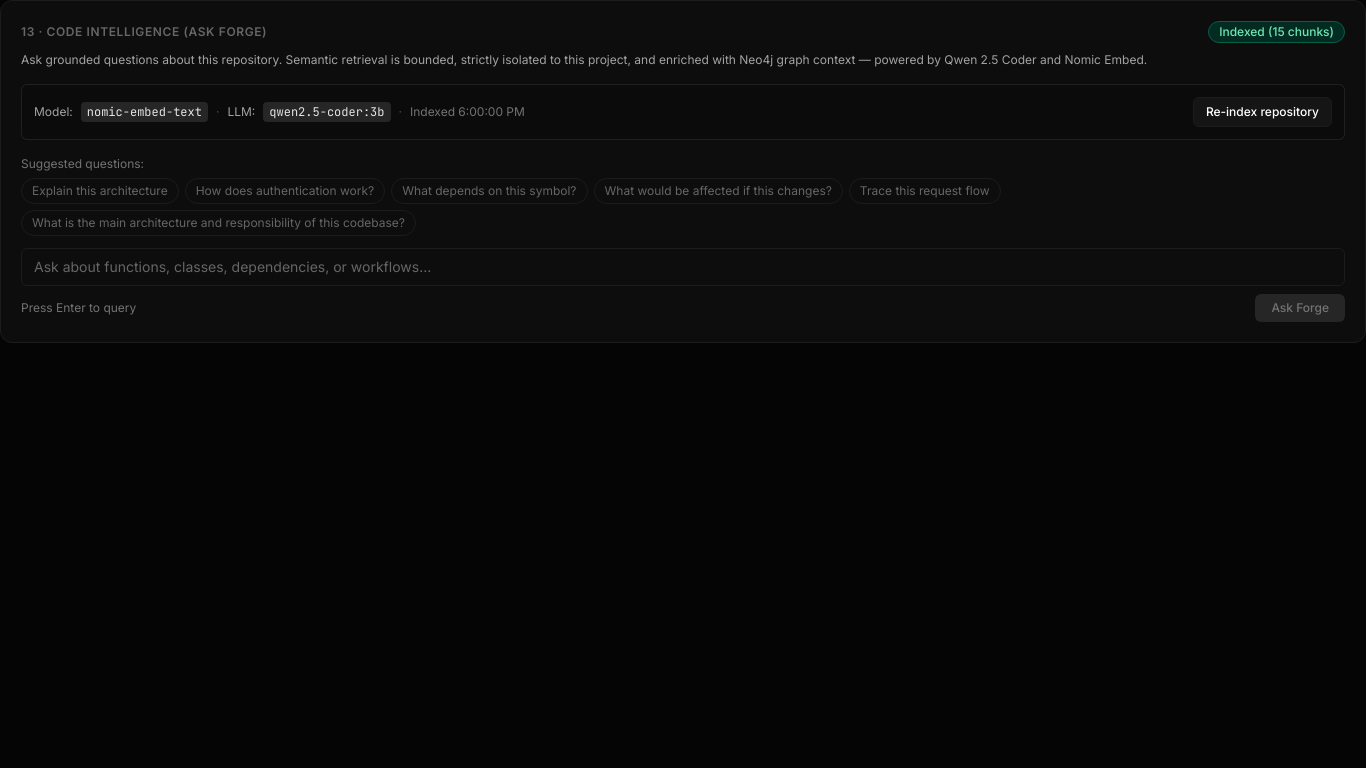
Scenario: RagPanel rendering › submits a question and renders grounded answer and citations
Expected: the text "Indexed (15 chunks)" is shown, [1208,21,1345,43]
Type "How does search work?" into the field with placeholder "Ask about functions, classes, dependencies, or workflows…" at {"x": 683, "y": 267}, box [21,248,1345,286]
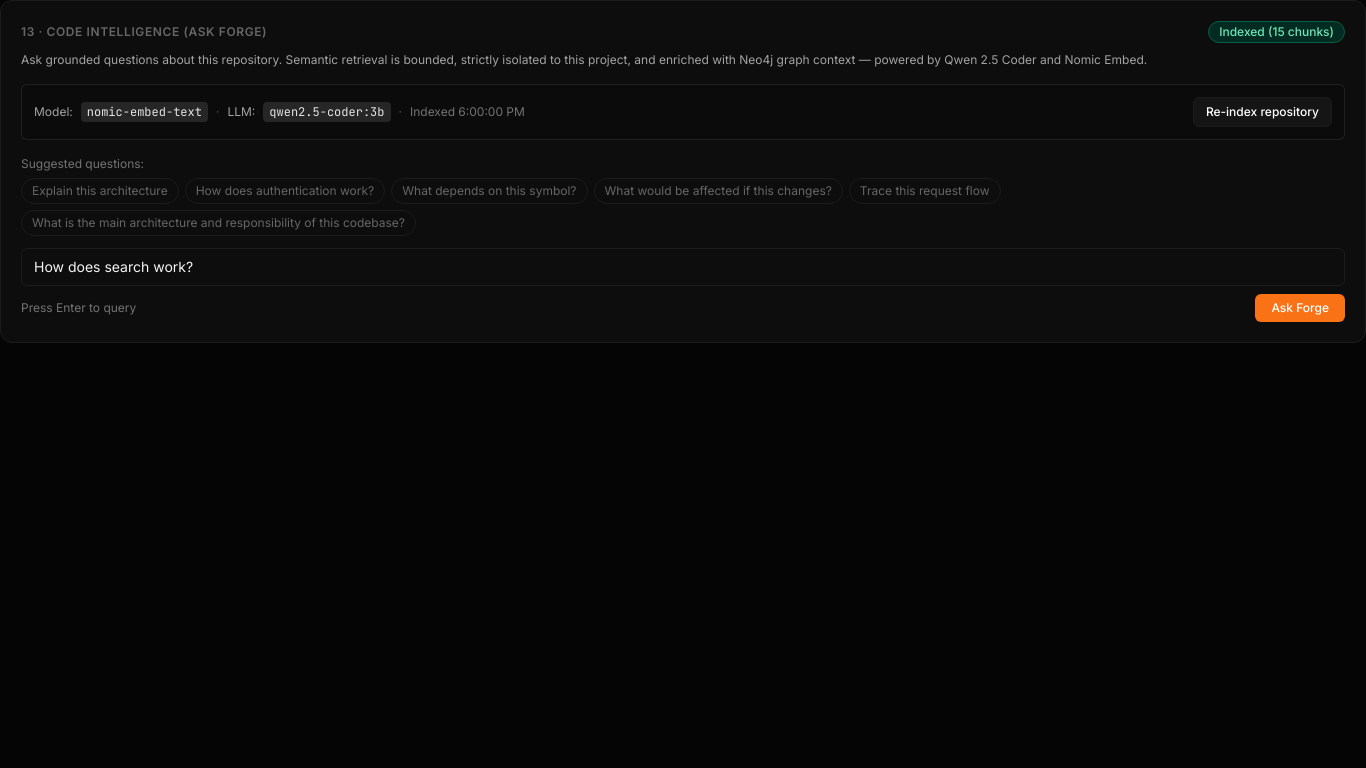
Click the button "Ask Forge" at {"x": 1300, "y": 308}, box [1255,294,1345,322]
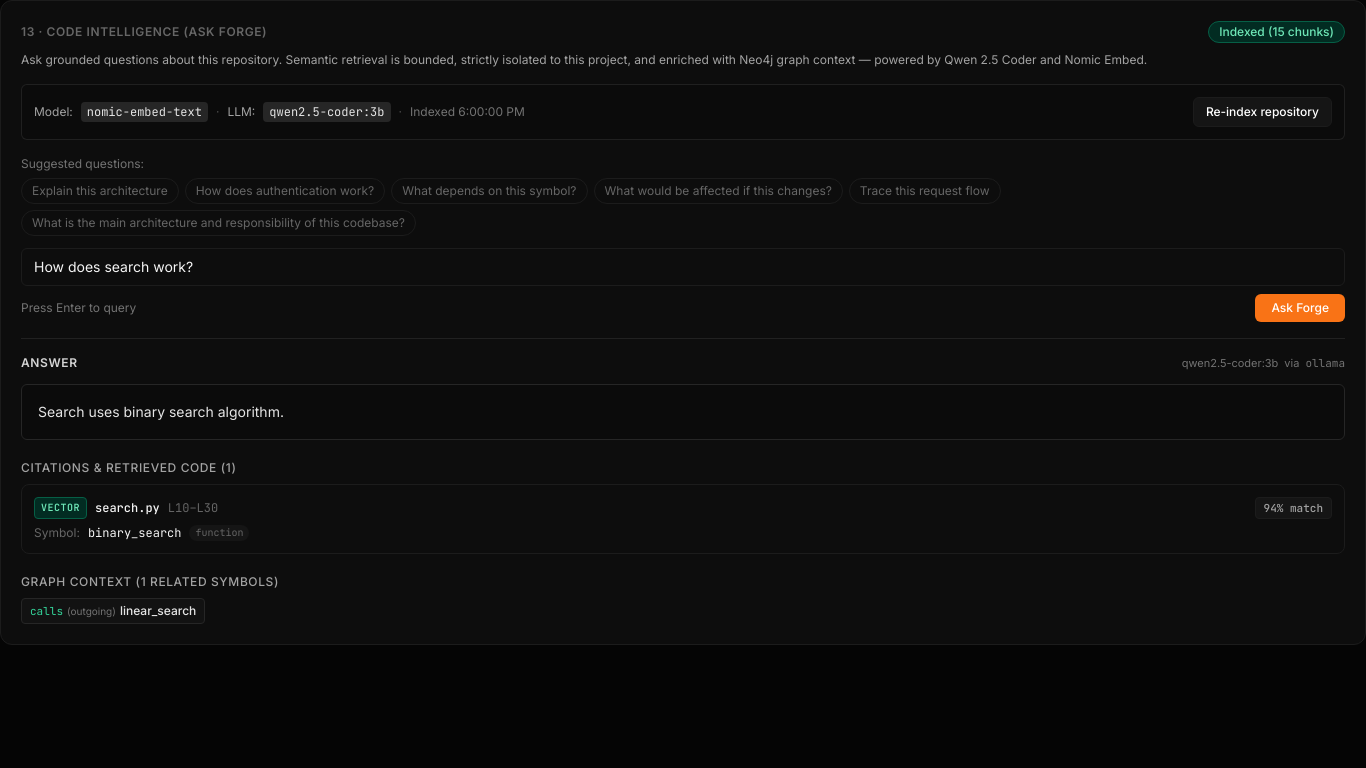
Expected: the text "Search uses binary search algorithm." is shown, [38,402,284,420]
Expected: the text "search.py" is shown
Expected: the text "L10–L30" is shown, [168,500,218,516]
// Clicking citation card reveals snippet
Click the text "search.py" at {"x": 127, "y": 508}, box [95,500,160,516]
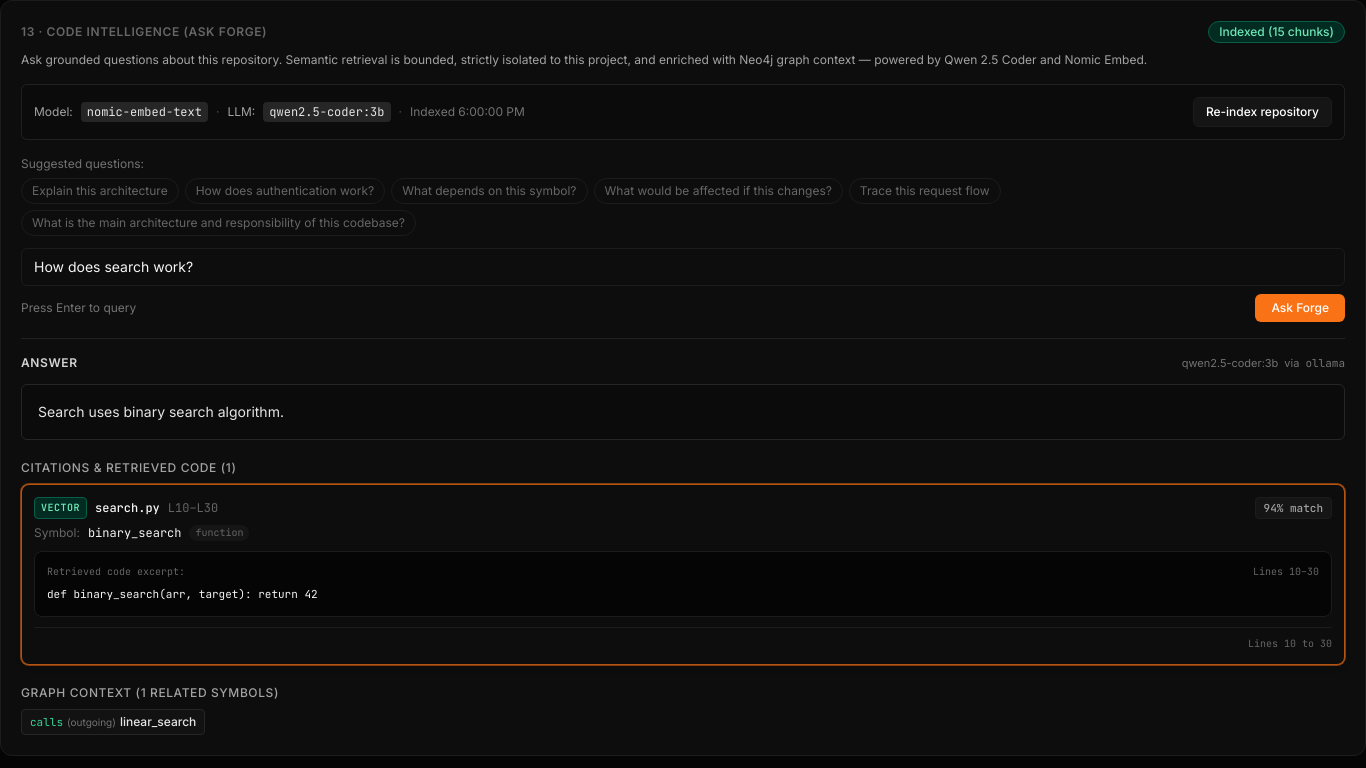
Expected: the text "Retrieved code excerpt:" is shown, [47,564,185,580]
Expected: the text "def binary_search(arr, target): return 42" is shown, [47,587,318,601]
